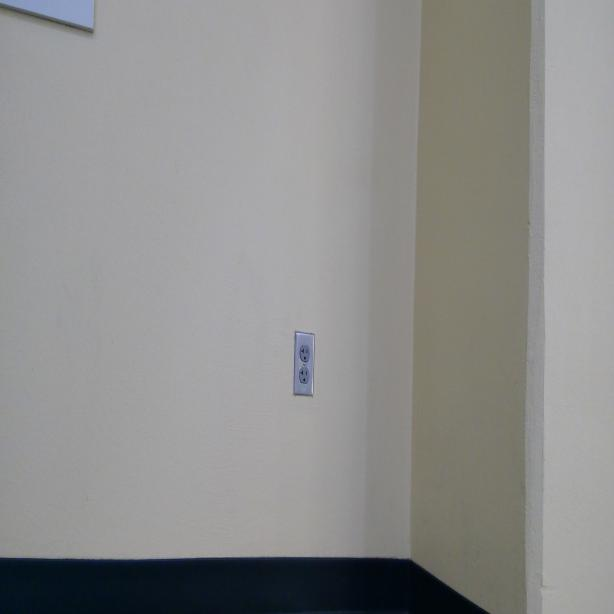typeb: (299, 342, 311, 363)
